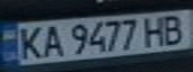4: (87, 18, 109, 54)
7: (118, 16, 142, 51), (103, 17, 124, 52)
9: (66, 20, 90, 55)
A: (39, 22, 66, 58)
B: (157, 11, 190, 46)
H: (139, 14, 172, 47)
K: (15, 24, 48, 61)
